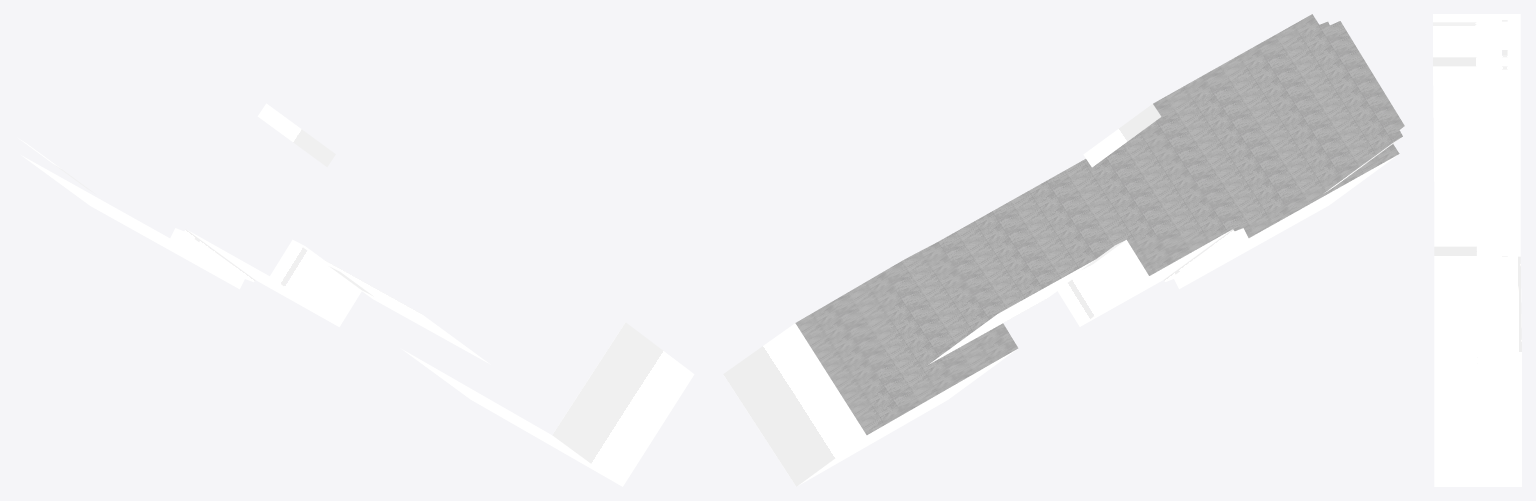
3 views of the same model, side by side, from view 1: azimuth 30°, elevation 25°; view 2: azimuth 150°, elevation 25°; view 3: azimuth 270°, elevation 25° (orthographic). The views are drawn at different scales.
Visible parts, largest first — view 1: BuildingMaster_1978193219484463078900000000_0; view 2: BuildingMaster_1978193219484463078900000000_1, BuildingMaster_1978193219484463078900000000_0; view 3: BuildingMaster_1978193219484463078900000000_0.
Part boxes in pixels (<box>): BuildingMaster_1978193219484463078900000000_0: <box>18,103,694,486</box>; BuildingMaster_1978193219484463078900000000_1: <box>795,14,1404,434</box>; BuildingMaster_1978193219484463078900000000_0: <box>723,104,1400,486</box>; BuildingMaster_1978193219484463078900000000_0: <box>1433,14,1521,486</box>.
Bounding box in the file's own units: 87.5 × 72.5 × 17.75.
